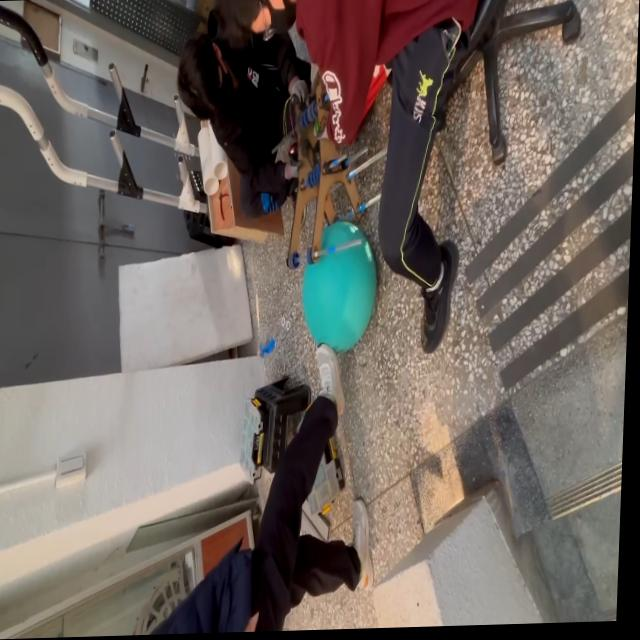ALGAE: (299, 217, 380, 356)
